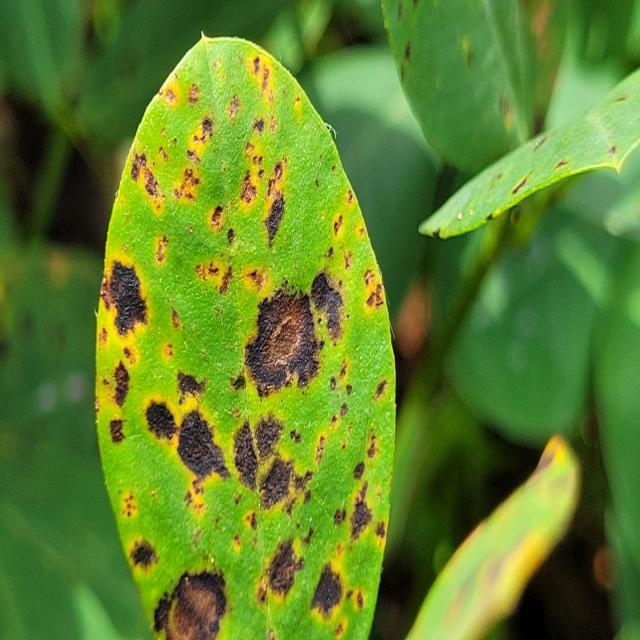Ground nut_tikka leaf spot: (96, 33, 397, 640)
